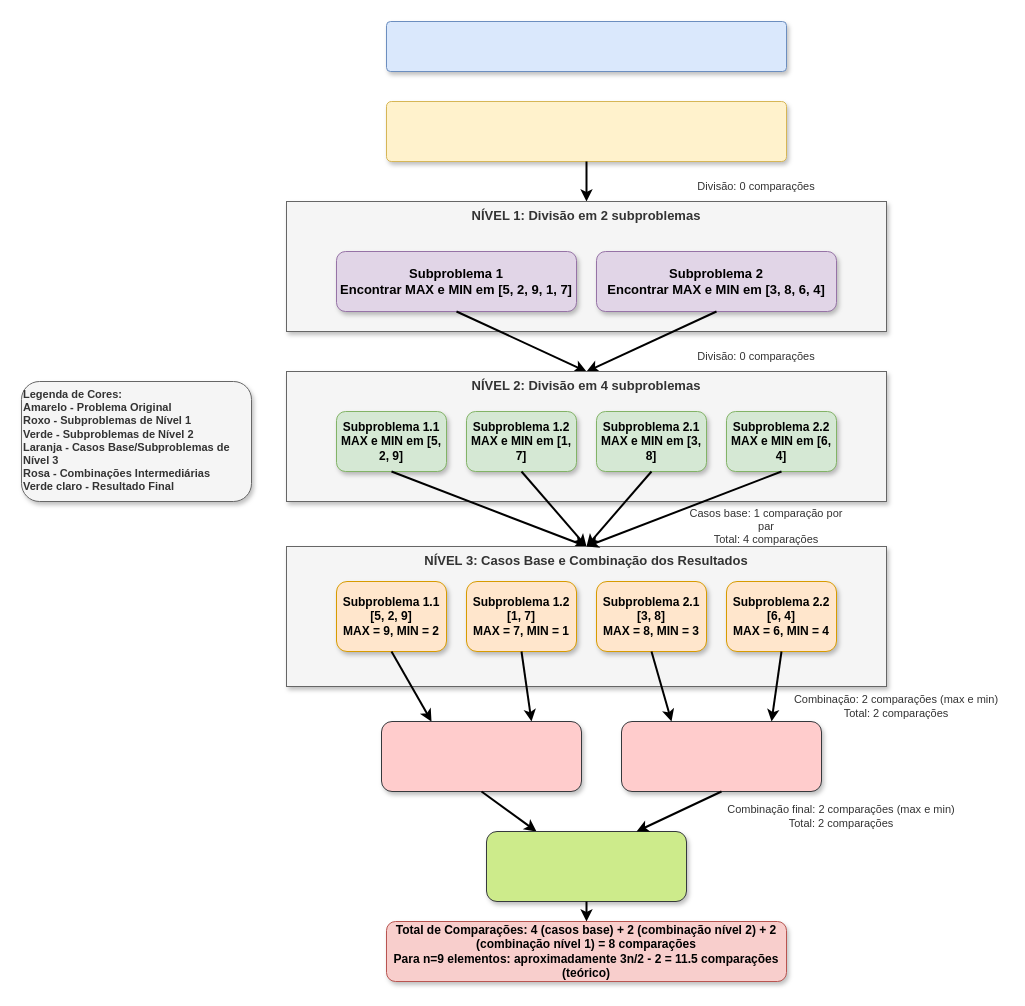
Image size: 1025x1006. Some labels were removed from this diagram. Here are the shapes that lost their labels. From the top down, the centre of each, then its label:
(587,47): MaxMin Select Algorithm Divisão e Conquista
(587,132): Problema Original Encontrar MAX e MIN na lista [5, 2, 9, 1, 7, 3, 8, 6, 4]
(482,757): Combinação do Subproblema 1 MAX = max(9, 7) = 9 MIN = min(2, 1) = 1
(722,757): Combinação do Subproblema 2 MAX = max(8, 6) = 8 MIN = min(3, 4) = 3
(587,867): Resultado Final MAX = max(9, 8) = 9 MIN = min(1, 3) = 1
